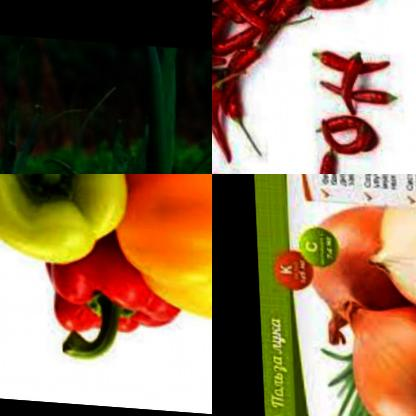bell pepper: (36, 221, 183, 370), (109, 174, 212, 331), (0, 174, 136, 270)
hot pepper: (212, 0, 416, 173), (304, 29, 406, 174), (212, 164, 255, 174)
onion: (292, 182, 408, 350), (336, 292, 416, 416), (359, 188, 416, 314)
